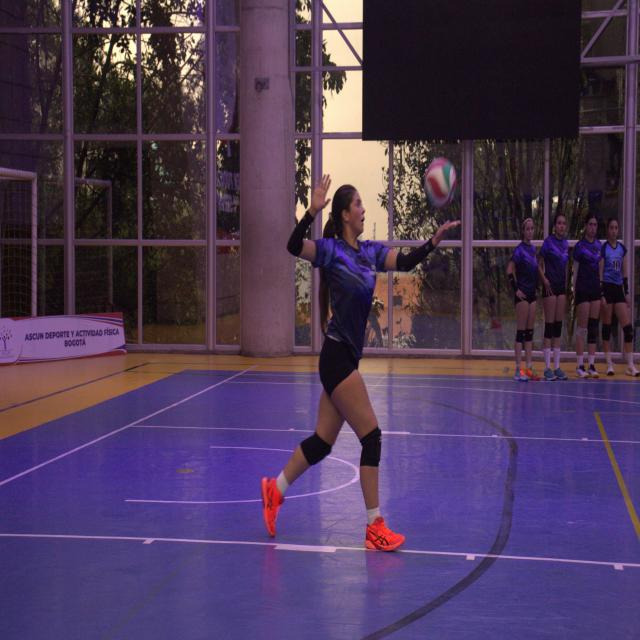volleyball: (424, 158, 456, 210)
